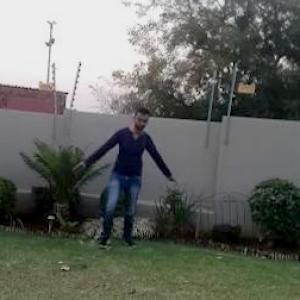land: (67, 103, 187, 260)
